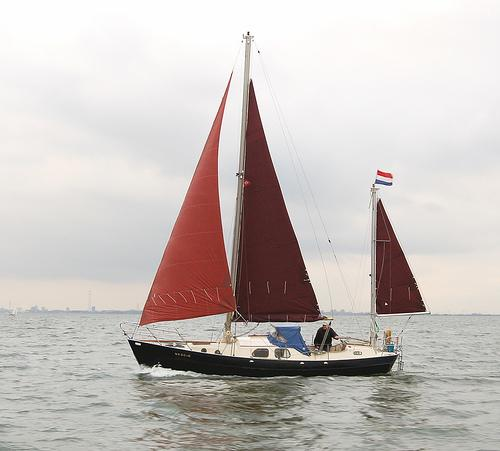Ship: (128, 35, 428, 379)
